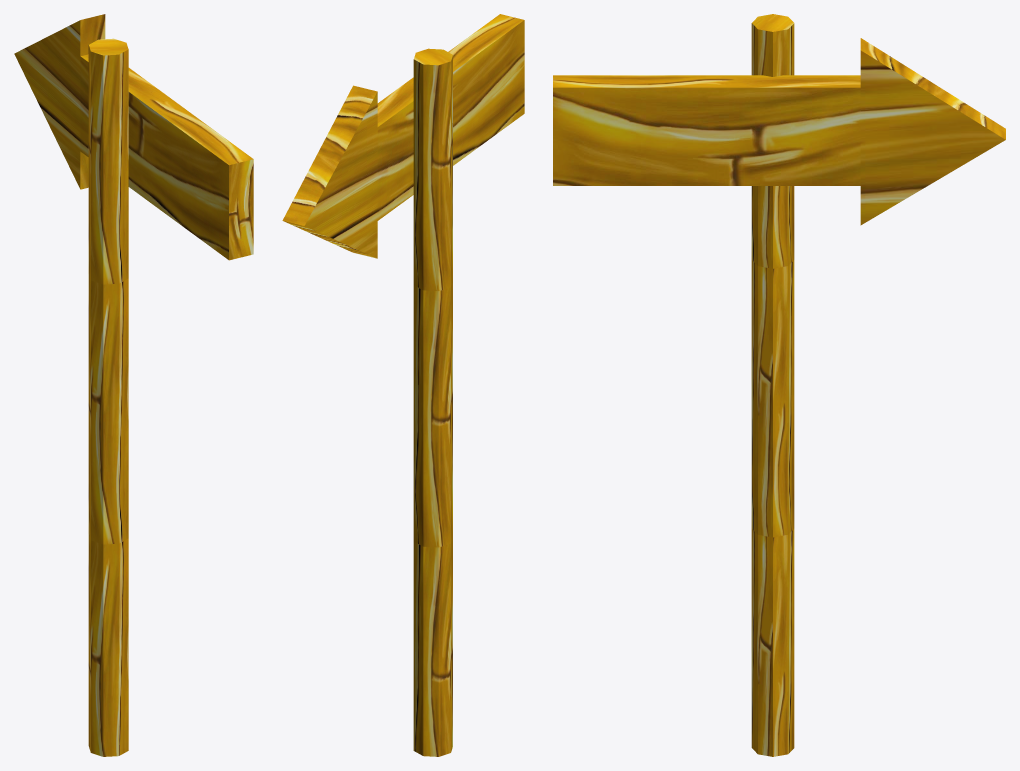
Rendered from SignHorizontal2.obj.
The picture shows the model from 3 angles, left to right: view 1: azimuth 30°, elevation 25°; view 2: azimuth 150°, elevation 25°; view 3: azimuth 270°, elevation 25°; orthographic projection. The views are drawn at different scales.
Parts seen in each view (by area): view 1: Cylinder.001, Plane.001; view 2: Cylinder.001, Plane.001; view 3: Plane.001, Cylinder.001.
Part boxes in pixels (left/top/right/bottom): Cylinder.001: left=88, top=38, right=128, bottom=756; Plane.001: left=14, top=14, right=253, bottom=260; Cylinder.001: left=413, top=48, right=452, bottom=756; Plane.001: left=282, top=14, right=524, bottom=258; Plane.001: left=553, top=38, right=1005, bottom=225; Cylinder.001: left=751, top=14, right=794, bottom=756.
Size of the model in its own units: 0.2614 by 3.01 by 1.7.
